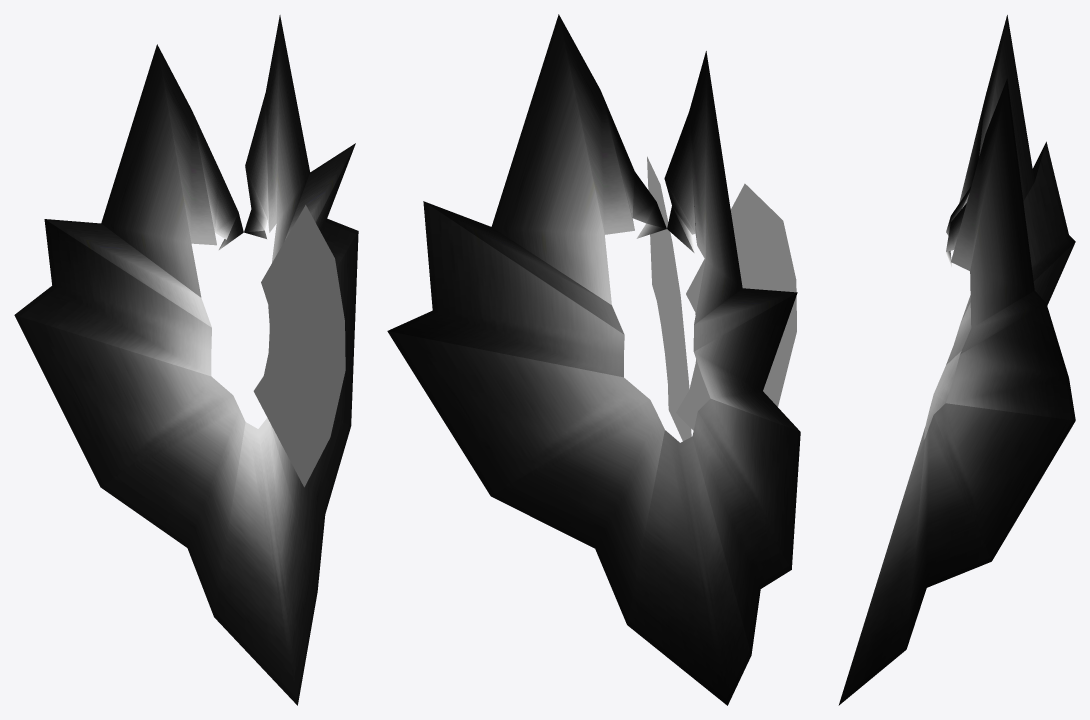
The model's file is yinxinquanren_Glow.fbx.
The picture shows the model from 3 angles, left to right: view 1: azimuth 30°, elevation 25°; view 2: azimuth 150°, elevation 25°; view 3: azimuth 270°, elevation 25°; orthographic projection. The views are drawn at different scales.
Parts seen in each view (by area): view 1: yinxinquanren_Glow; view 2: yinxinquanren_Glow; view 3: yinxinquanren_Glow.
Part boxes in pixels (<box>): yinxinquanren_Glow: <box>14,15,358,705</box>; yinxinquanren_Glow: <box>387,14,800,705</box>; yinxinquanren_Glow: <box>838,15,1075,705</box>.
Bounding box in the file's own units: 290 × 499 × 169.
